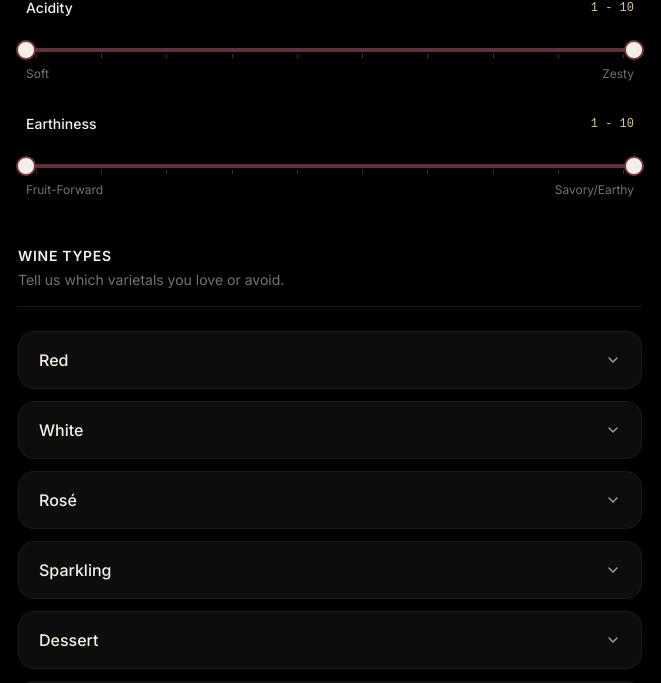
Test case: Preferences Refactor › updates varietal preference on click
Later steps or results of the test are not shown.
(page scrolled)
Expected: the heading "Wine Types" is shown, 18,247 -> 112,264
Note: Open Red
Click the button "Red": click(54, 360) 19,332 -> 641,388
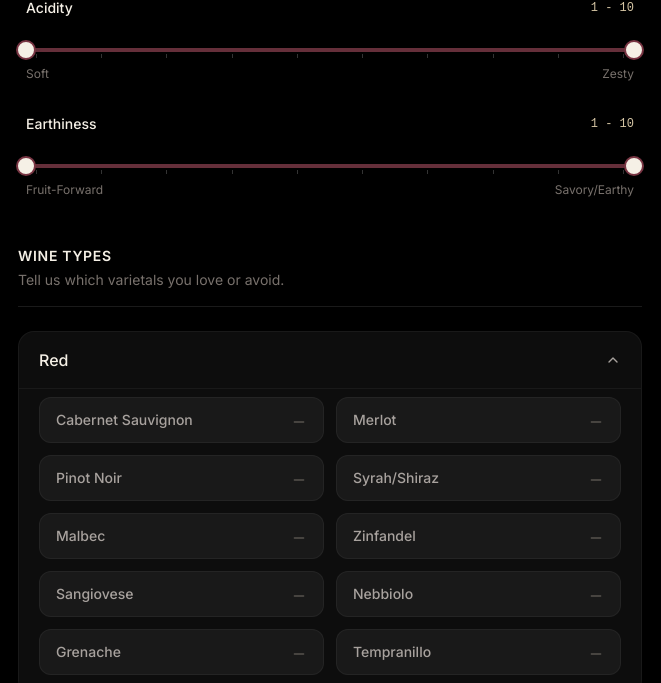
Now the text "Cabernet Sauvignon" is shown, box 56,410 -> 193,430
Now the button "Cabernet Sauvignon" is shown, box 39,397 -> 324,443
